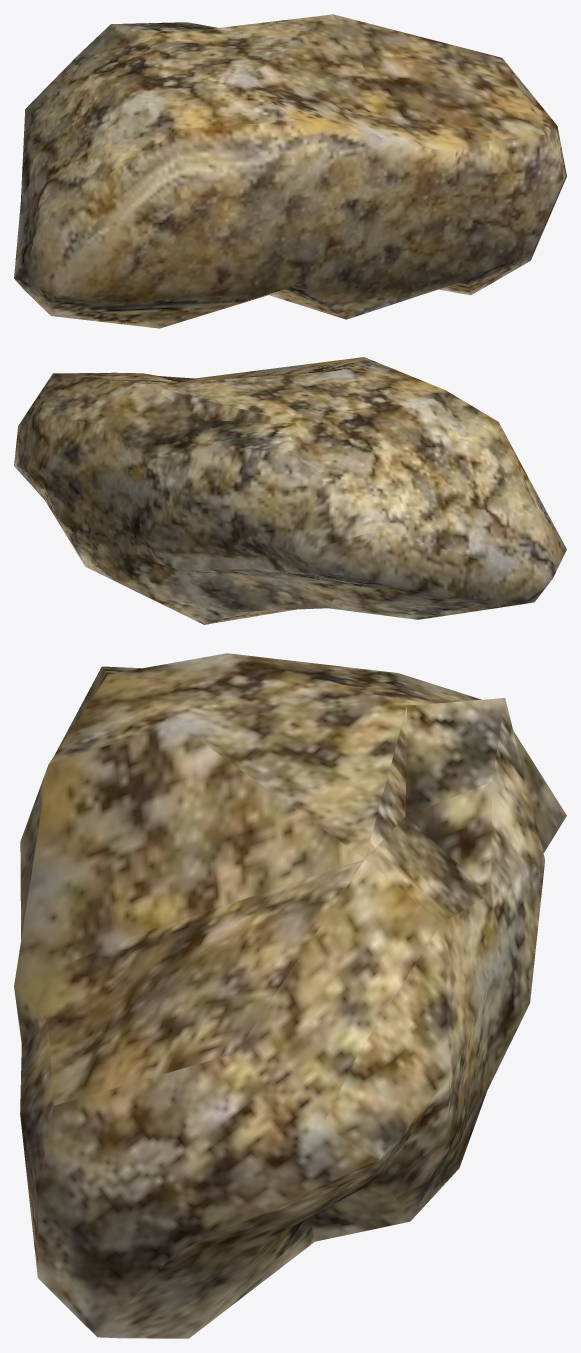
The model's file is rock028.glb.
3 views of the same model, one above another, from view 1: azimuth 30°, elevation 25°; view 2: azimuth 150°, elevation 25°; view 3: azimuth 270°, elevation 25° (orthographic). The views are drawn at different scales.
Visible parts, largest first — view 1: rock028; view 2: rock028; view 3: rock028.
Part boxes in pixels (box(x1,y1,x2,y2)): rock028: box(14, 14, 566, 328); rock028: box(14, 357, 566, 624); rock028: box(14, 653, 566, 1338).
Size of the model in its own units: 0.963 by 0.4475 by 0.5095.
Materials: 1 (1 with a texture image).
